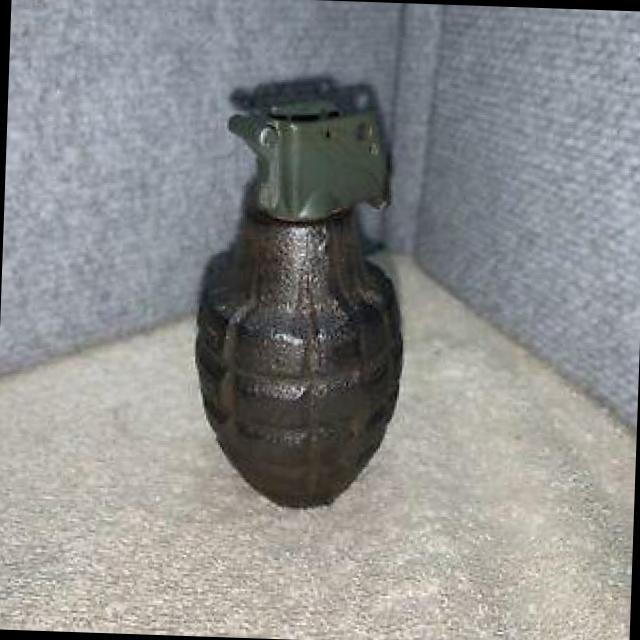grenade: (194, 91, 419, 514)
